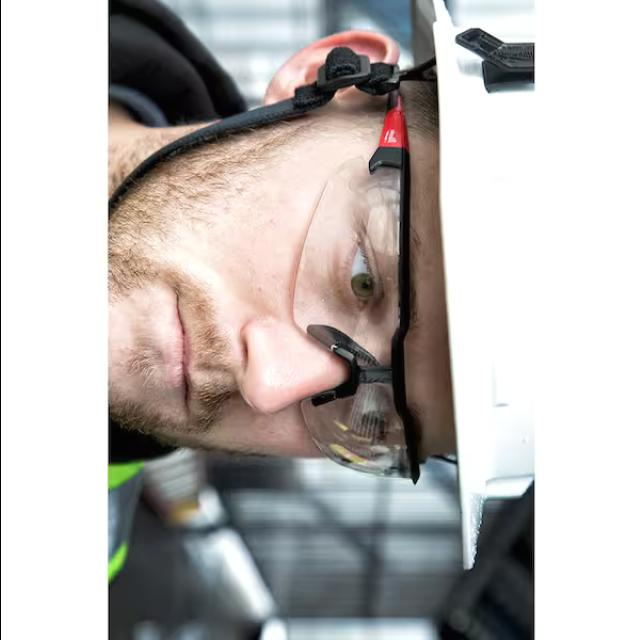Hard Hat: (410, 0, 536, 579)
Reflective Vest: (86, 446, 150, 594)
Safety Glasses: (282, 98, 422, 490)
